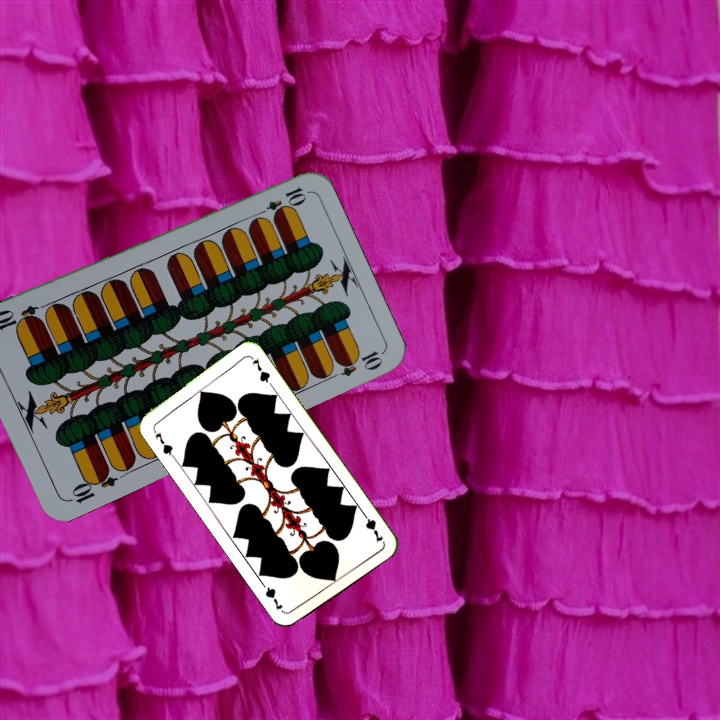E10: (64, 464, 120, 506), (252, 183, 309, 221)
G7: (358, 507, 386, 545), (149, 425, 177, 460)
